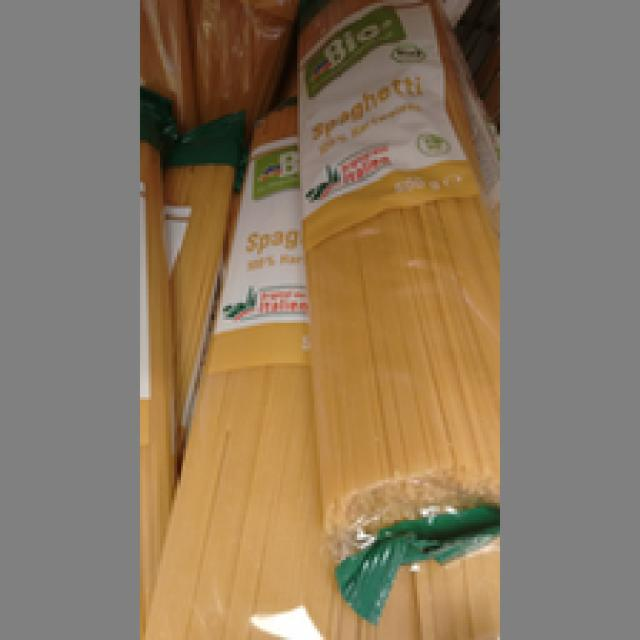groceries: (297, 0, 500, 597), (146, 109, 348, 634)
